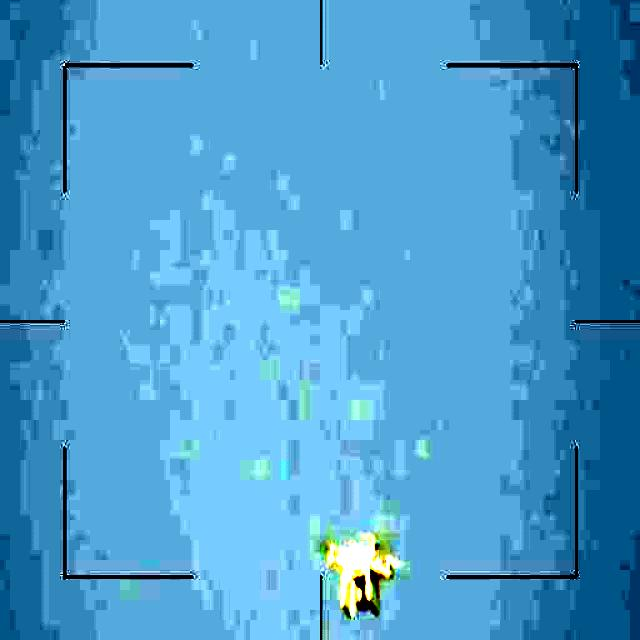bird: (314, 526, 402, 618)
